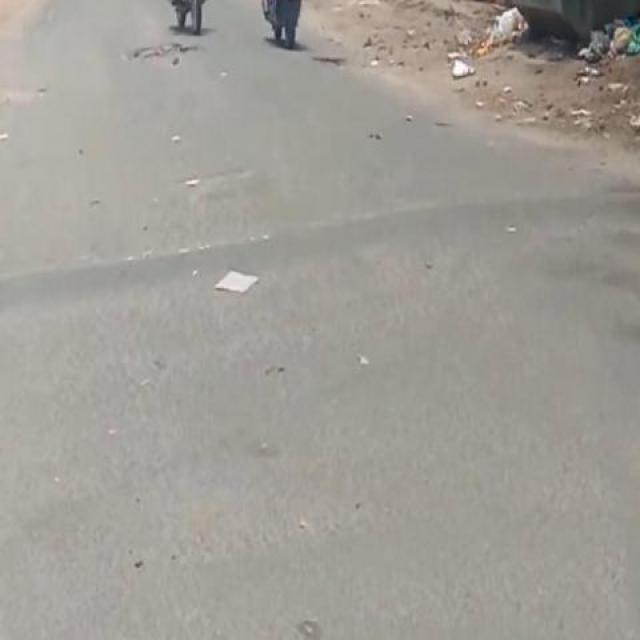Pothole: (126, 41, 215, 64)
Unmarked Bump: (0, 184, 639, 318)
